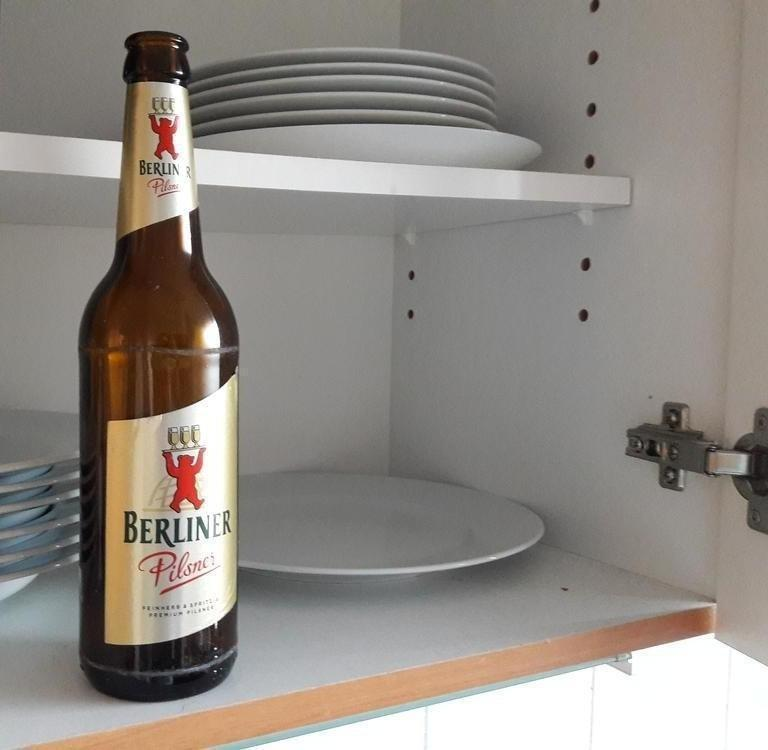bottle-glass: (77, 27, 241, 704)
